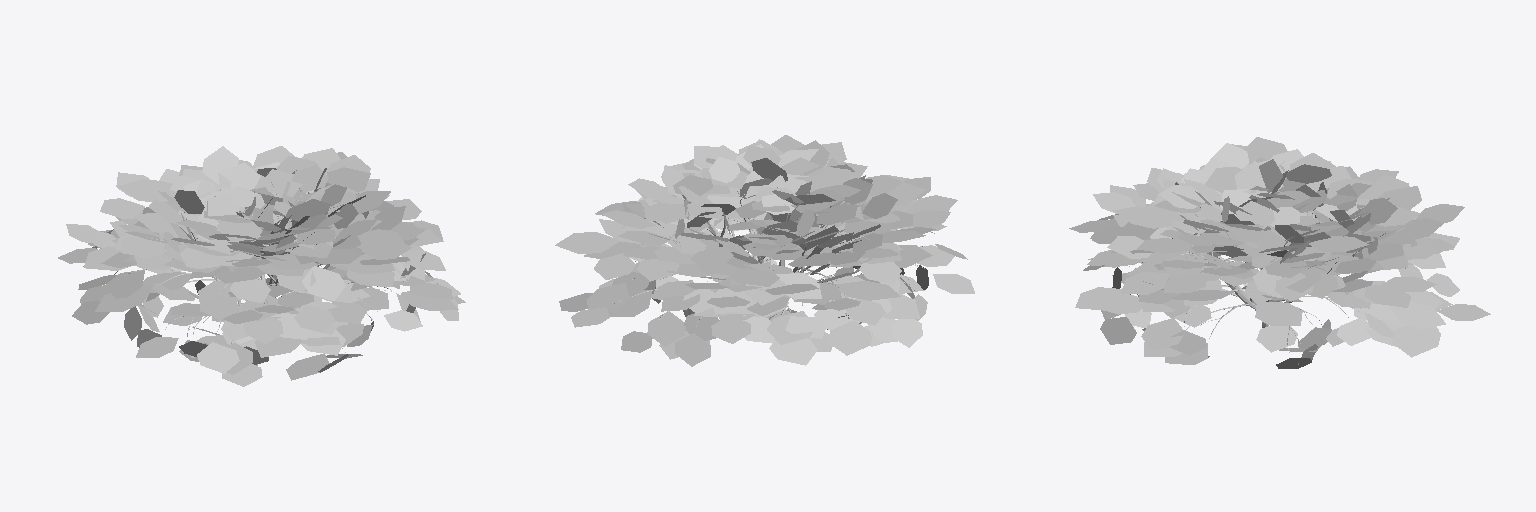
File: plante feuillue1.obj
3 views of the same model, side by side, from view 1: azimuth 30°, elevation 25°; view 2: azimuth 150°, elevation 25°; view 3: azimuth 270°, elevation 25° (orthographic).
Visible parts, largest first — view 1: leaves, tree; view 2: leaves, tree; view 3: leaves, tree.
Part boxes in pixels (x1,y1,x2,y2): leaves: (58,146,465,386); tree: (114,188,406,352); leaves: (555,135,974,366); tree: (614,191,929,331); leaves: (1069,137,1490,368); tree: (1129,196,1430,352).
Size of the model in its own units: 6.54 by 2.75 by 7.3.